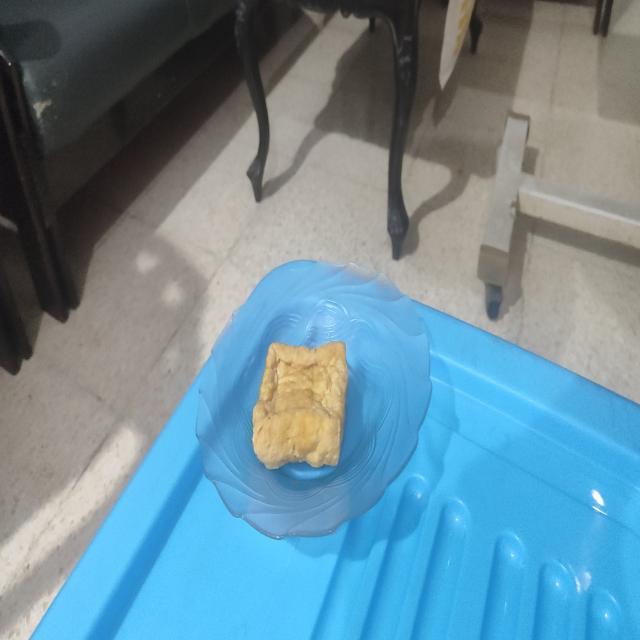tahu_goreng: (252, 342, 348, 468)
